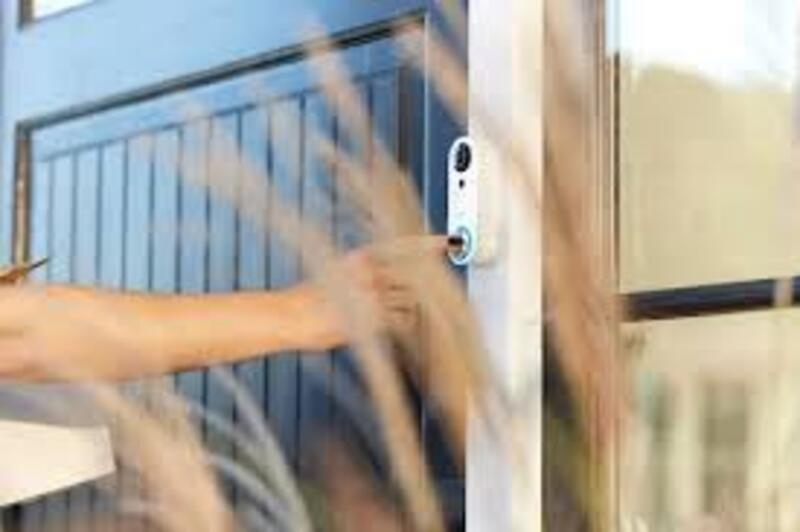doorbell: (439, 130, 509, 275)
